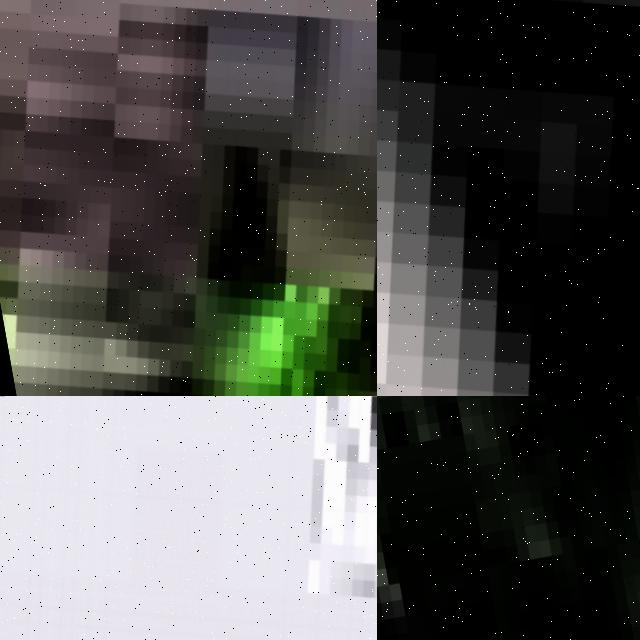0: (0, 0, 377, 396), (0, 396, 377, 640)
drone: (377, 0, 640, 396)
